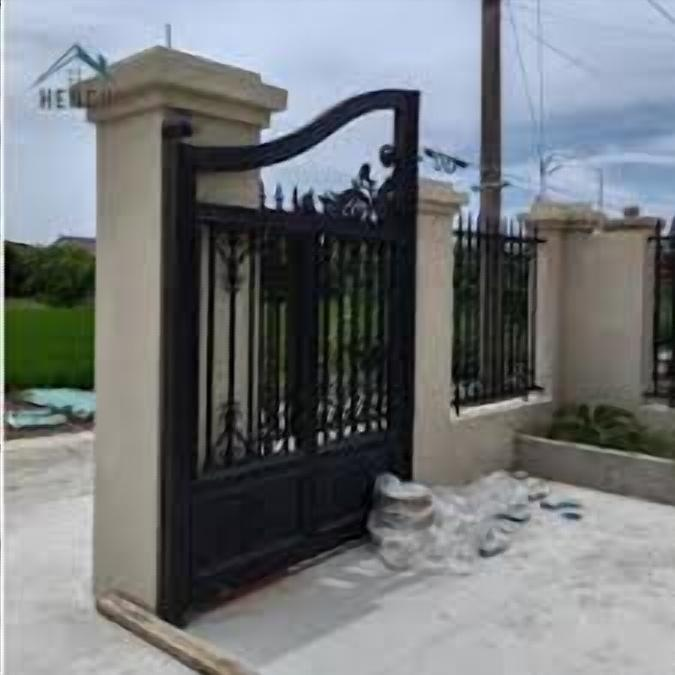Gate: (158, 86, 420, 631)
